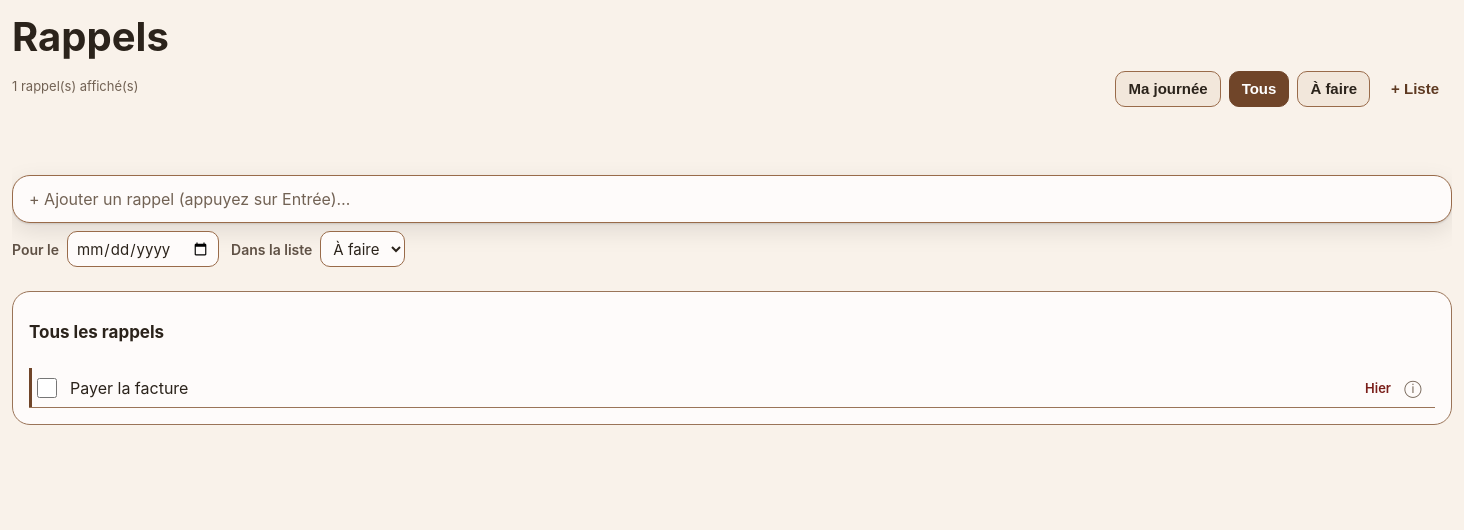
Test: RemindersScreen › bascule un rappel ouvert vers terminé via saveReminder
Click the checkbox named "Marquer « Payer la facture » comme terminé": [47, 388] box [37, 378, 57, 398]
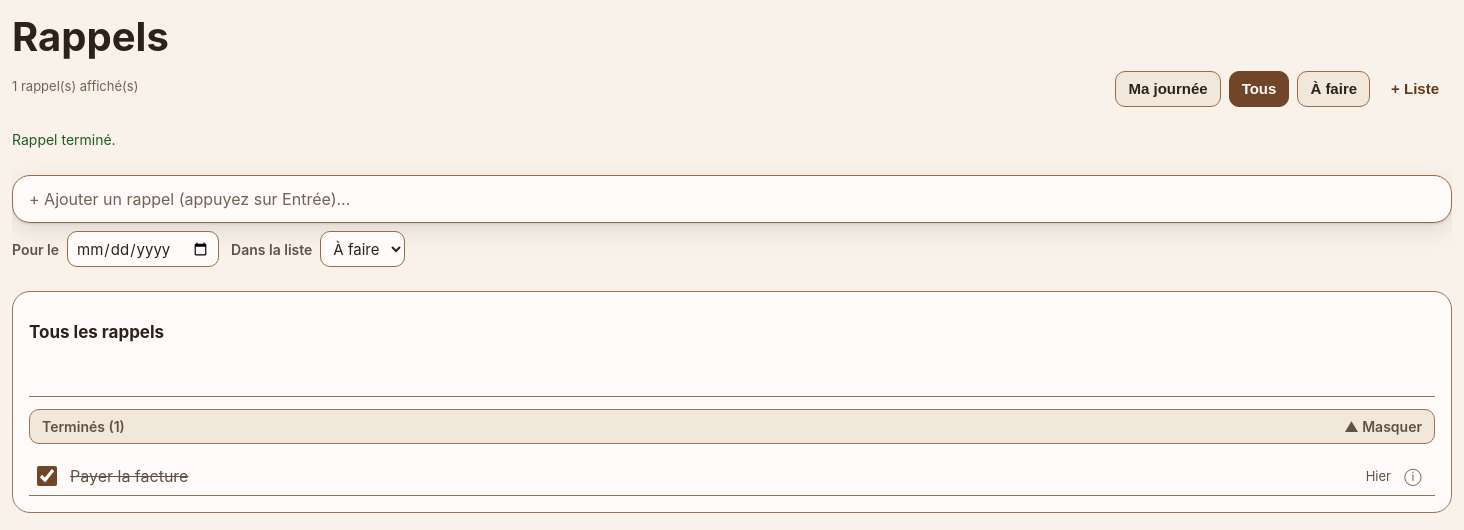
Expected: the checkbox named "Rouvrir « Payer la facture »" is checked, [37, 466, 57, 486]
Expected: the text "Rappel terminé." is shown, [12, 131, 116, 148]
